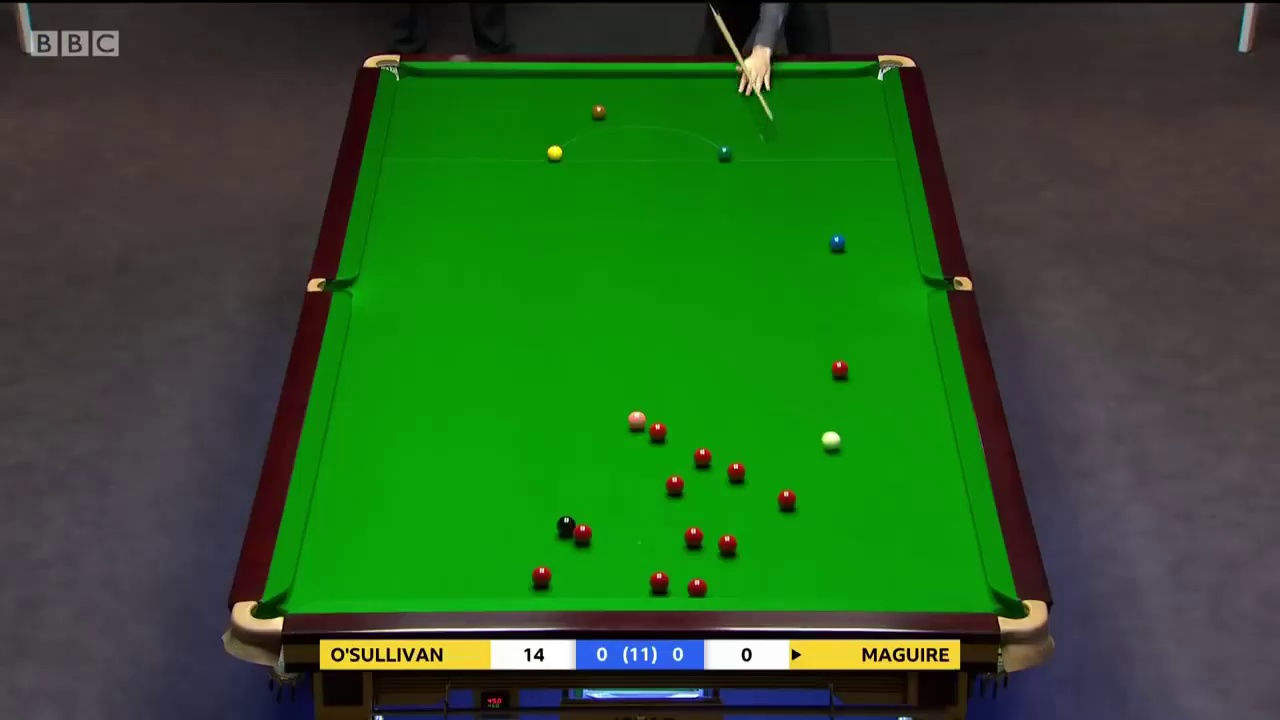ball: (820, 430, 845, 454), (684, 578, 707, 597), (624, 411, 645, 431), (716, 534, 736, 555), (648, 570, 668, 591), (573, 523, 591, 545), (827, 235, 847, 254), (532, 565, 551, 584), (666, 475, 684, 494), (832, 360, 849, 380), (779, 490, 797, 508), (649, 422, 666, 441), (684, 527, 703, 543), (729, 463, 745, 480), (695, 447, 711, 463), (546, 145, 562, 160), (718, 145, 733, 160), (591, 104, 606, 118)
